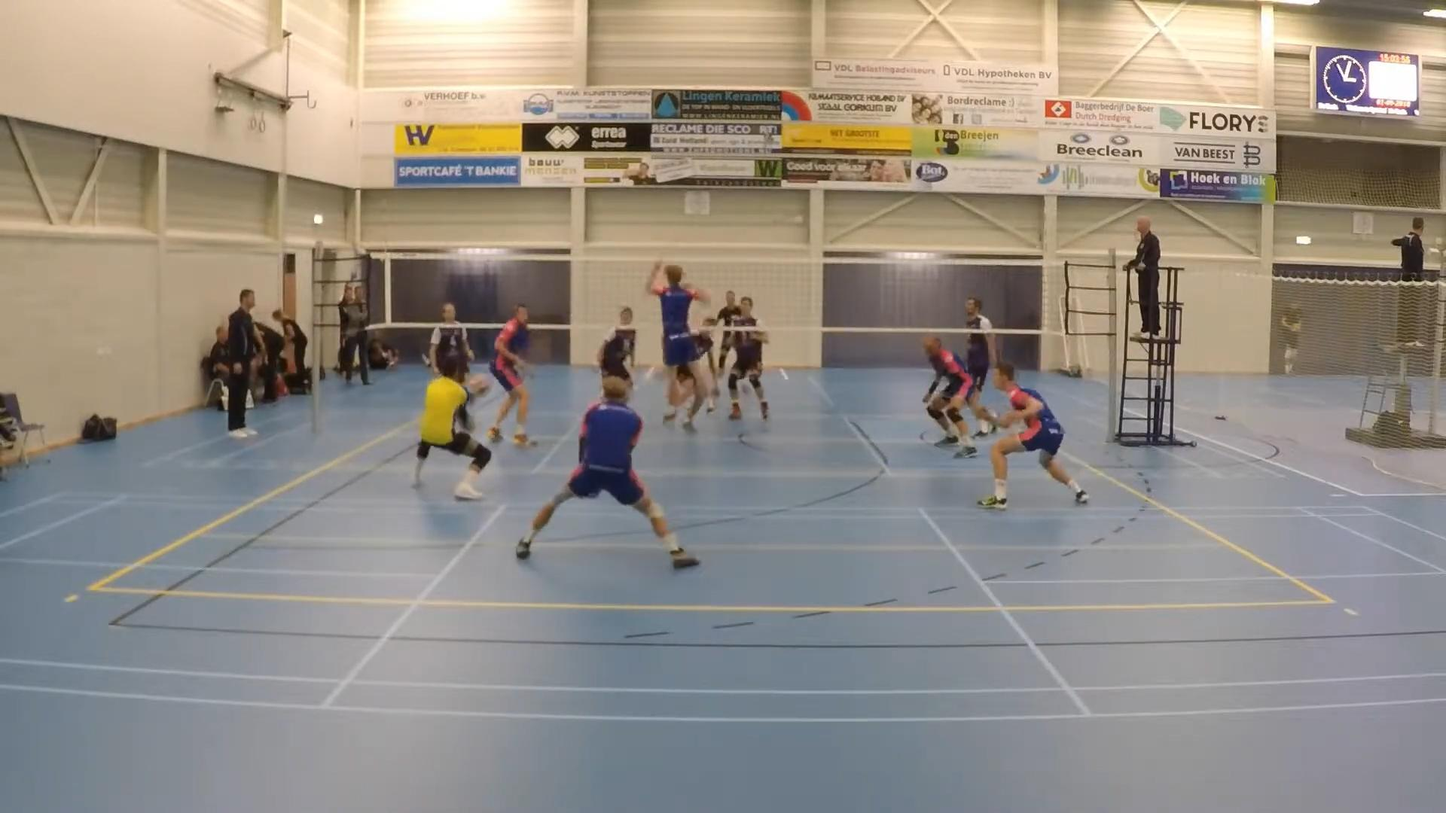Dig: (520, 376, 710, 570)
Player: (978, 361, 1088, 509), (413, 355, 491, 500), (648, 261, 708, 420), (923, 336, 977, 457), (488, 305, 534, 446), (728, 297, 768, 419), (966, 297, 997, 437), (428, 303, 474, 379), (597, 306, 636, 382), (714, 291, 740, 376), (695, 318, 718, 413), (673, 367, 698, 400)
ball: (462, 369, 492, 402)
